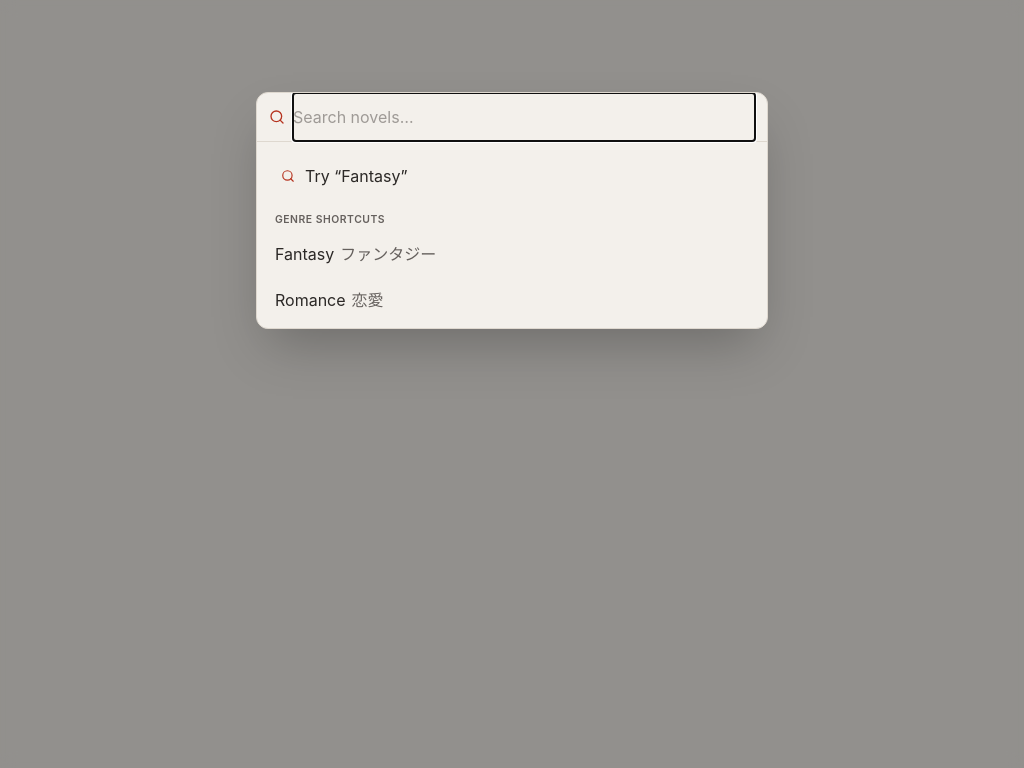
it: SearchOverlay live results › debounces then fetches catalog and tags
In the search field labelled "Search novels…": x=524, y=117 [293, 93, 755, 141], type "dragon"
Wait 450 ms
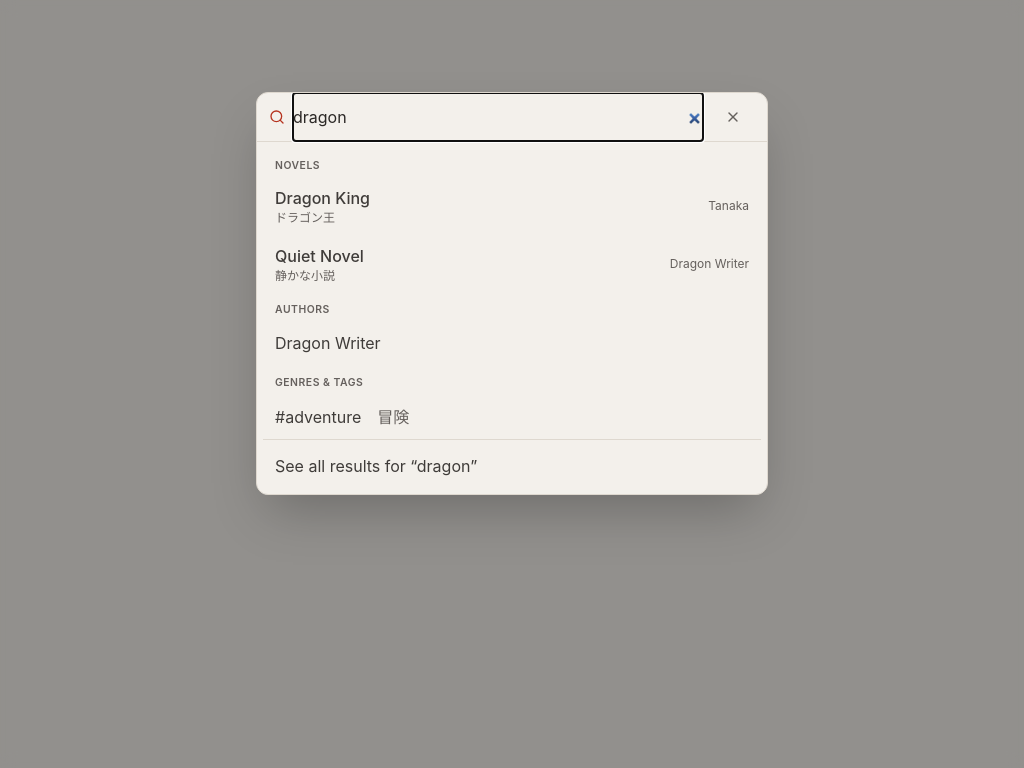
Expected: the text "Novels" is shown, [275, 159, 320, 172]
Expected: the text "Dragon King" is shown, [275, 188, 370, 208]
Expected: the text "Authors" is shown, [275, 303, 330, 316]
